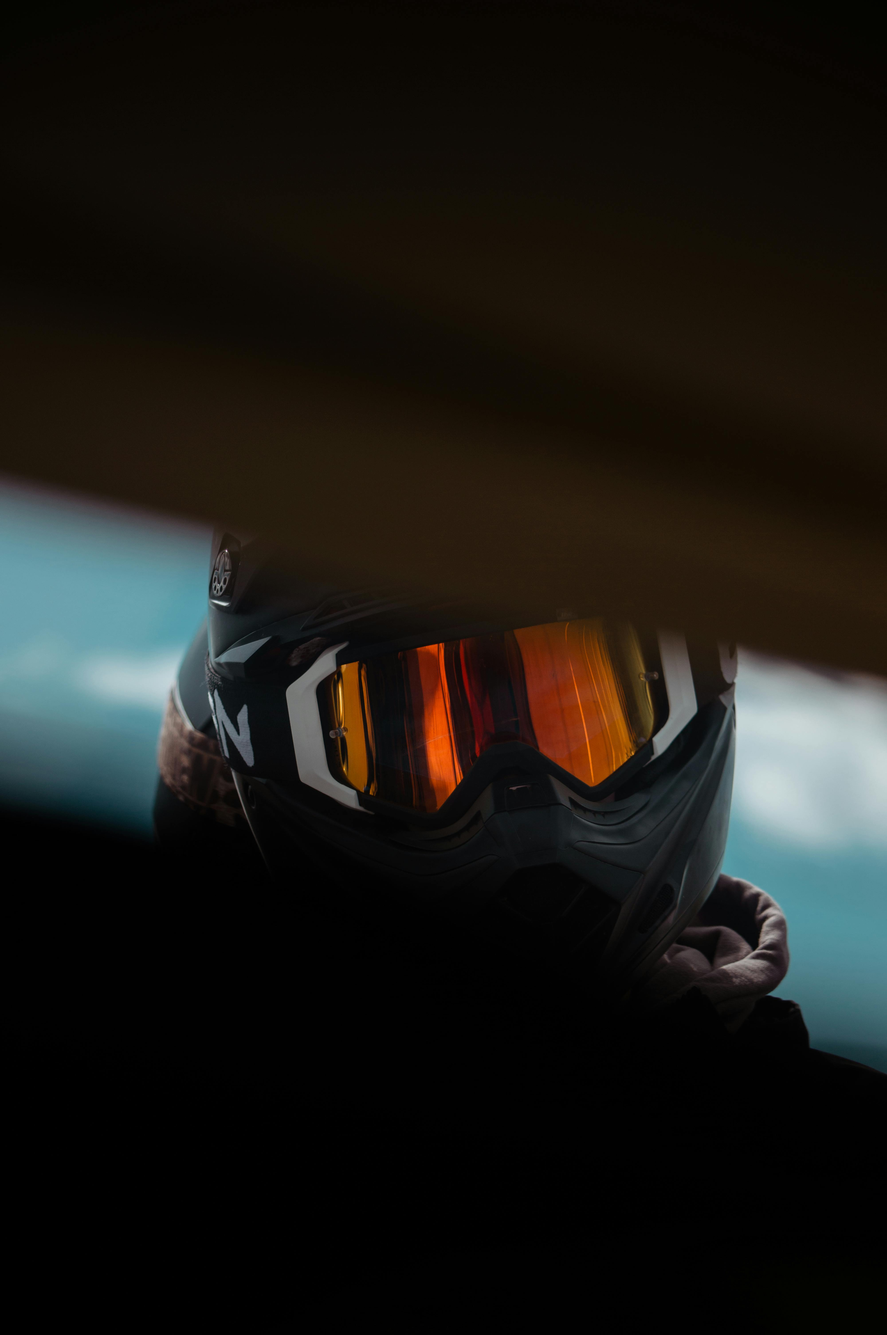helmets: (178, 506, 778, 978)
